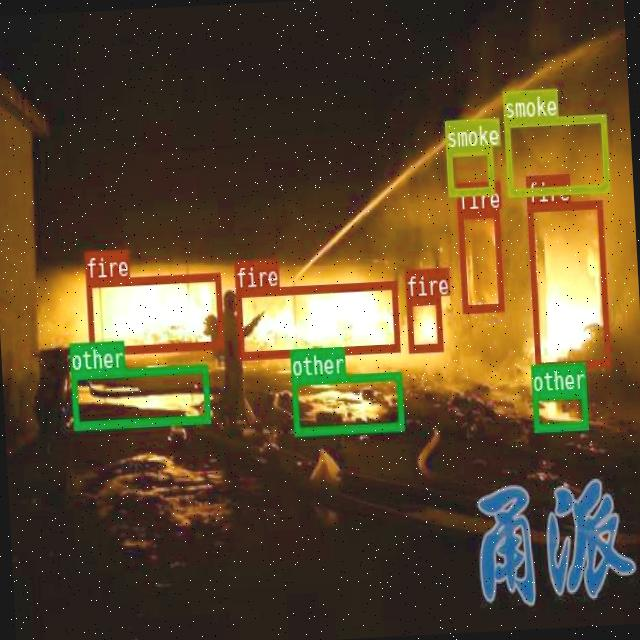fire: (526, 198, 610, 368), (234, 280, 398, 358), (85, 271, 223, 354), (457, 207, 502, 312), (406, 295, 442, 351)
smoke: (502, 113, 608, 196), (445, 146, 493, 195)
